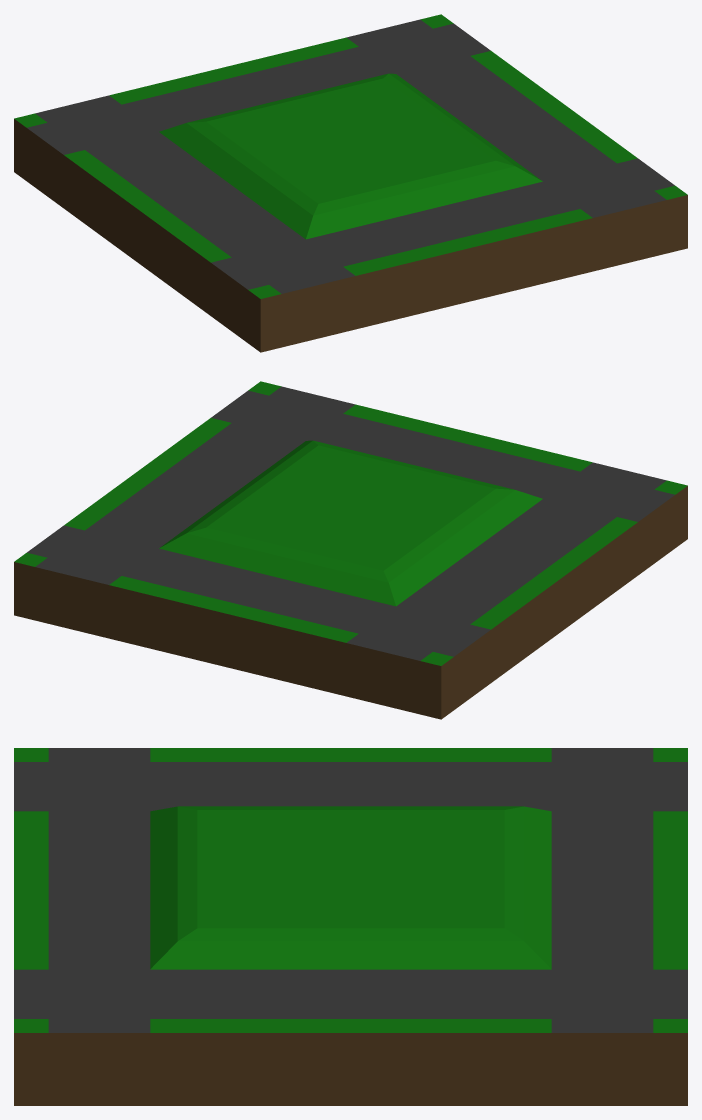
File: CityGround1.fbx
The picture shows the model from 3 angles, top to bottom: view 1: azimuth 30°, elevation 25°; view 2: azimuth 150°, elevation 25°; view 3: azimuth 270°, elevation 25°; orthographic projection. The views are drawn at different scales.
Visible parts, largest first — view 1: Cube; view 2: Cube; view 3: Cube.
Part boxes in pixels (x1,y1,x2,y2): Cube: (14,14,687,352); Cube: (14,381,687,719); Cube: (14,748,687,1105).
Bounding box in the file's own units: 200 × 30.89 × 200.
